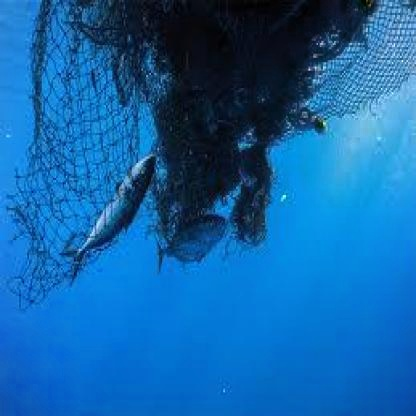net: (27, 2, 416, 283)
